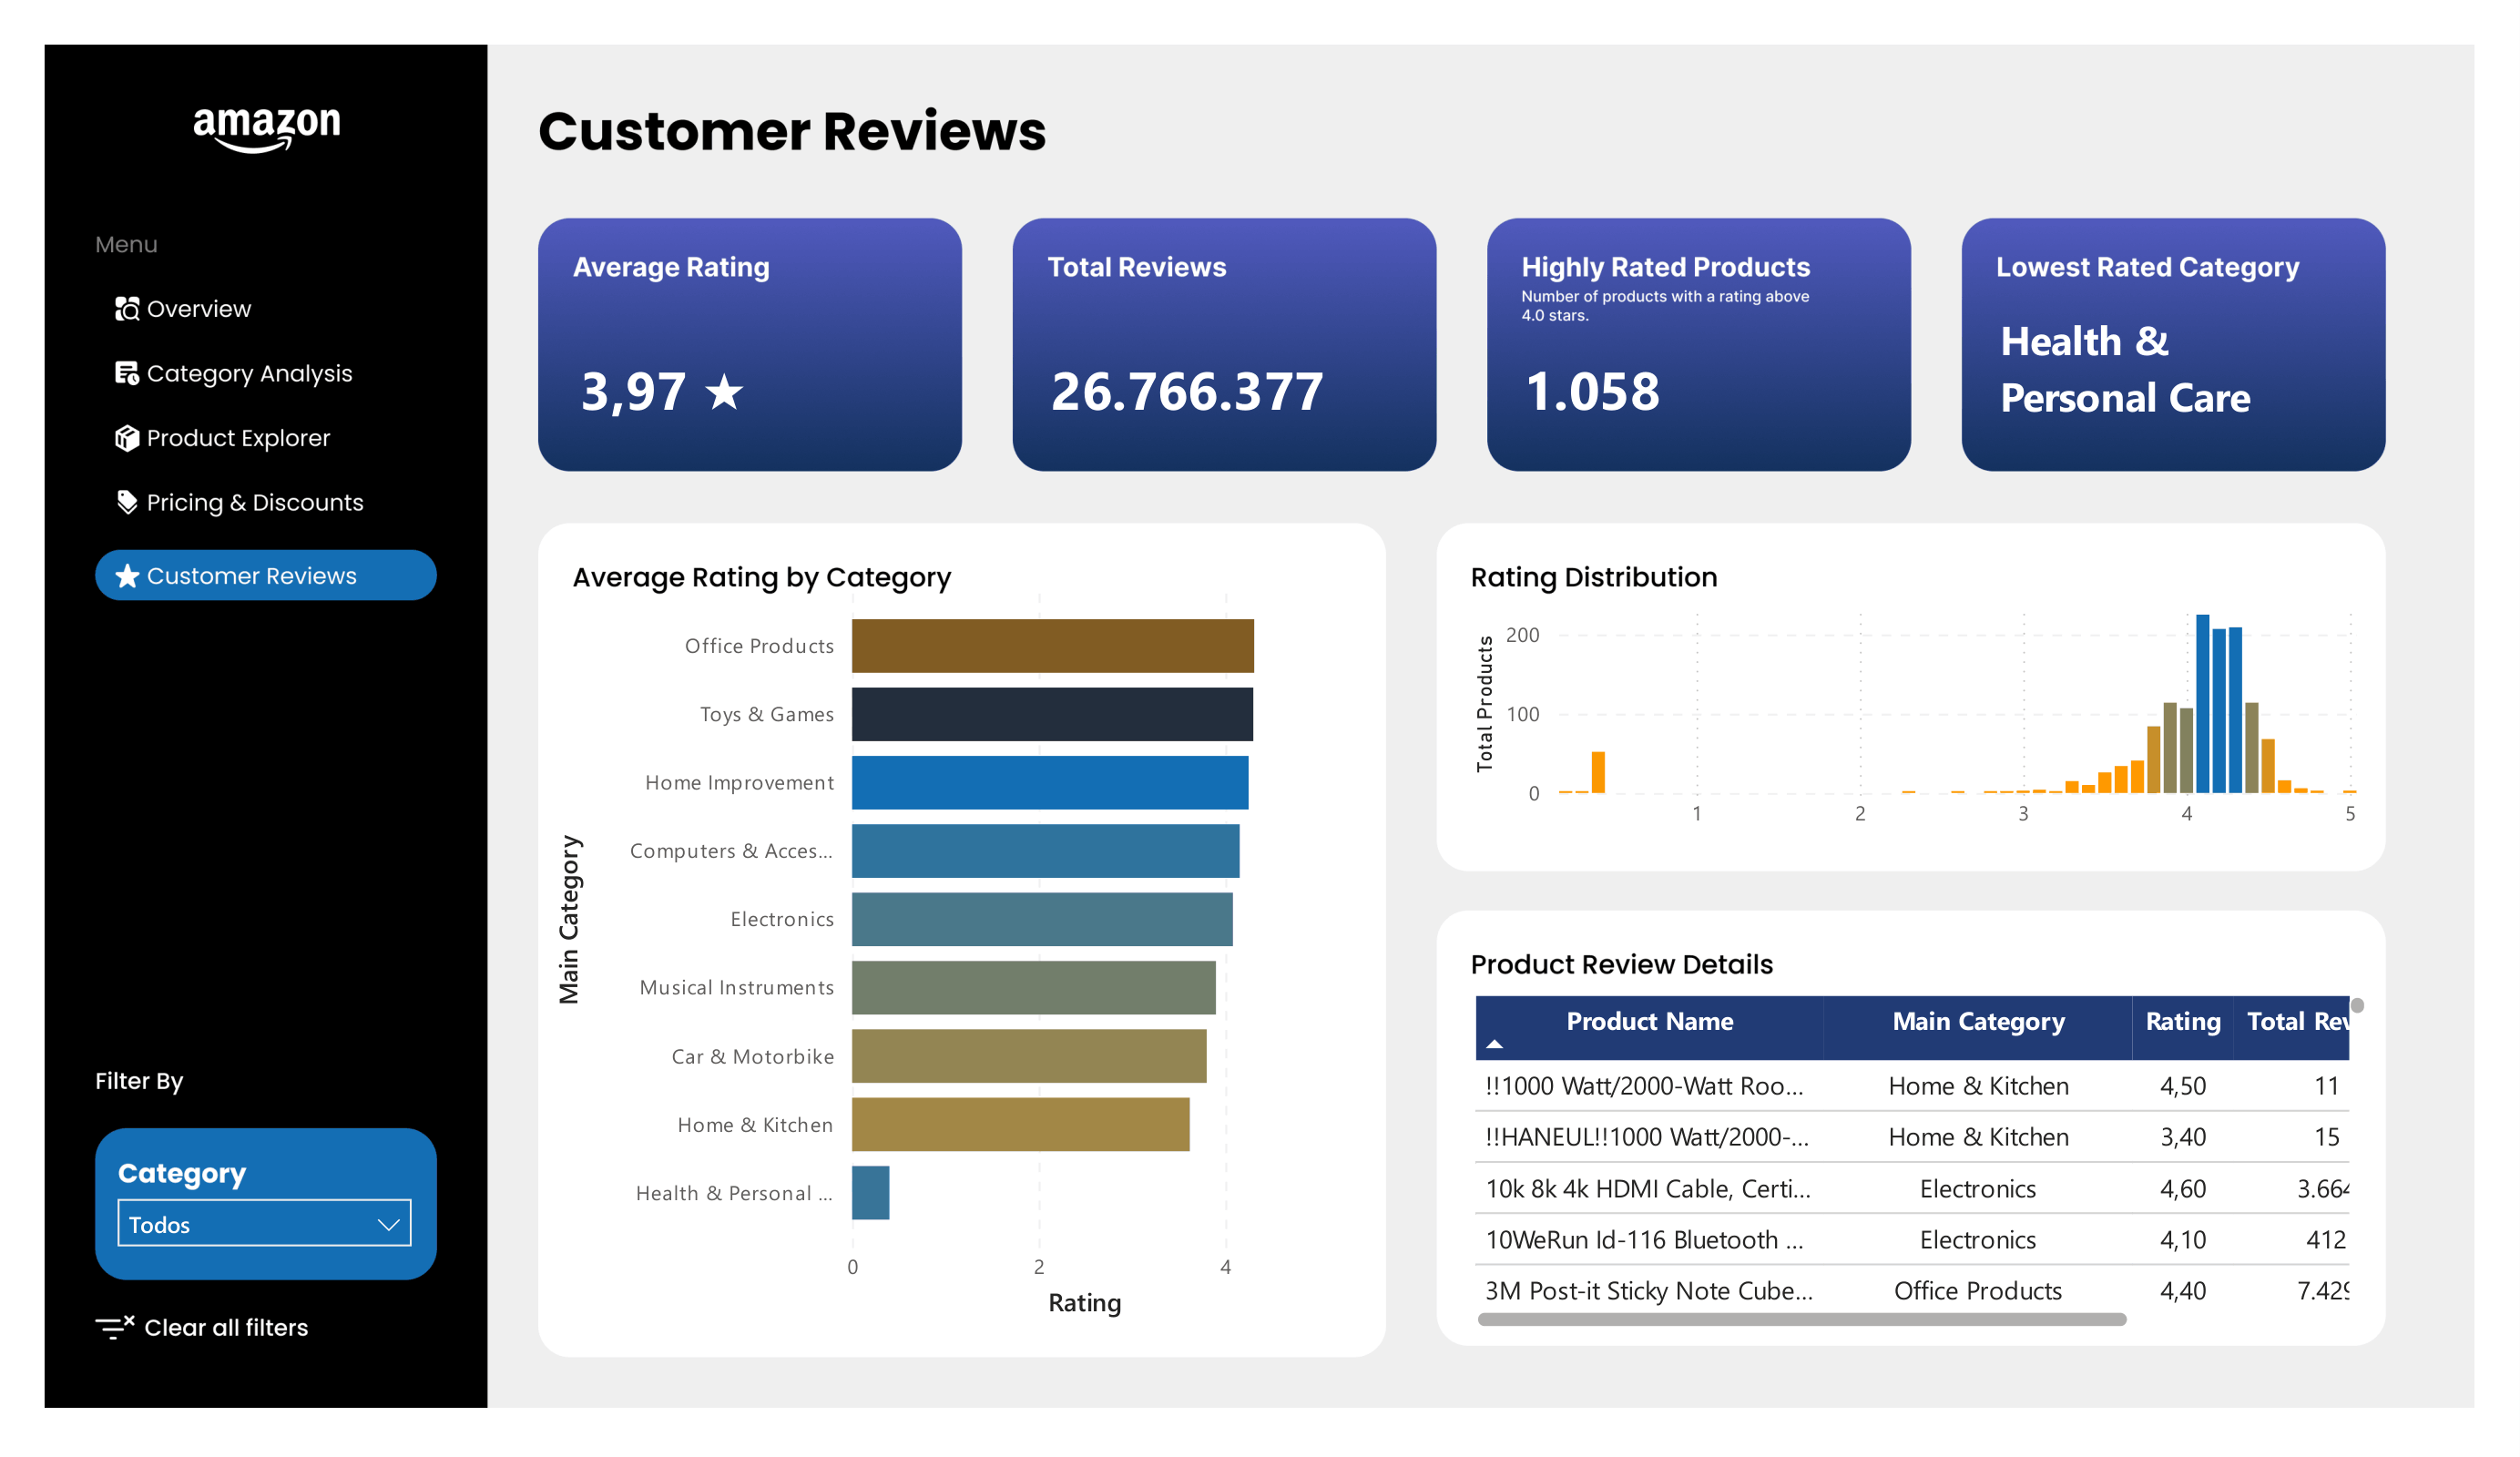

This screenshot's page, from the dashboard's own definition file:
{"tool":"powerbi","page":{"name":"Customer Reviews","canvas":[1280,720],"ordinal":4},"visuals":[{"type":"cardVisual","fields":{"Data":["Customer Medidas.Avg Rating Formatted"]},"box":[264.6,149.2,200.2,58.6],"z":0},{"type":"cardVisual","fields":{"Data":["Customer Medidas.Total Reviews Formatted"]},"box":[513.4,149.2,213.1,58.6],"z":1000},{"type":"cardVisual","fields":{"Data":["Customer Medidas.Lowest Rated Category"]},"box":[1012.6,110.1,210.2,115.8],"z":2000},{"type":"cardVisual","fields":{"Data":["Customer Medidas.Highly Rated Products Formatted"]},"box":[762.3,149.2,213.1,58.6],"z":3000},{"type":"slicer","fields":{"Values":["amazon.Main Category"]},"box":[33.3,603.3,165,36.7],"z":4000},{"type":"barChart","fields":{"Category":["amazon.Main Category"],"Y":["Avg(amazon.rating_correct)"]},"box":[264.6,274.6,414.7,401.9],"z":5000},{"type":"clusteredColumnChart","fields":{"Y":["Overview Medidas.Total Products Num"],"Category":["amazon.rating_correct"]},"box":[748,286,474.8,135.9],"z":6000},{"type":"tableEx","fields":{"Values":["amazon.product_name","amazon.Main Category","Avg(amazon.rating_correct)","Customer Medidas.Total Reviews Formatted","amazon.discounted_price"]},"box":[748,500.6,474.8,175.9],"z":7000},{"type":"actionButton","box":[24.7,124,181.3,28.7],"z":8000},{"type":"actionButton","box":[25,159.8,182,28.7],"z":9000},{"type":"actionButton","box":[25.3,194,182,28.7],"z":10000},{"type":"actionButton","box":[24.7,228,182,28.7],"z":11000},{"type":"actionButton","box":[15.7,656.4,181.6,35.8],"z":12000}]}

Visuals, with their boxes on the page's 1280x720 design canvas (x1, y1, x2, y2). These are canvas units, not pixel positions in the 2520x1457 screenshot, which may show the page scaled, cropped or inside an application window:
cardVisual - Customer Medidas.Avg Rating Formatted: Rect(265, 149, 465, 208)
cardVisual - Customer Medidas.Total Reviews Formatted: Rect(513, 149, 726, 208)
cardVisual - Customer Medidas.Lowest Rated Category: Rect(1013, 110, 1223, 226)
cardVisual - Customer Medidas.Highly Rated Products Formatted: Rect(762, 149, 975, 208)
slicer - amazon.Main Category: Rect(33, 603, 198, 640)
barChart - amazon.Main Category x Avg(amazon.rating_correct): Rect(265, 275, 679, 676)
clusteredColumnChart - Overview Medidas.Total Products Num x amazon.rating_correct: Rect(748, 286, 1223, 422)
tableEx - amazon.product_name x amazon.Main Category: Rect(748, 501, 1223, 676)
actionButton: Rect(25, 124, 206, 153)
actionButton: Rect(25, 160, 207, 188)
actionButton: Rect(25, 194, 207, 223)
actionButton: Rect(25, 228, 207, 257)
actionButton: Rect(16, 656, 197, 692)
